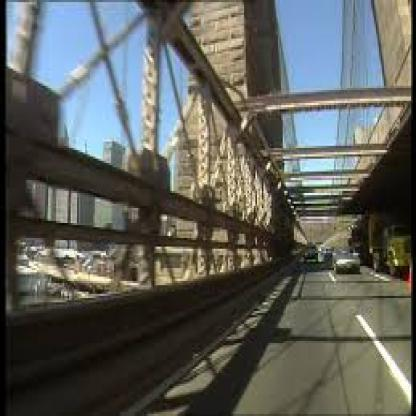car: (330, 242, 368, 277)
